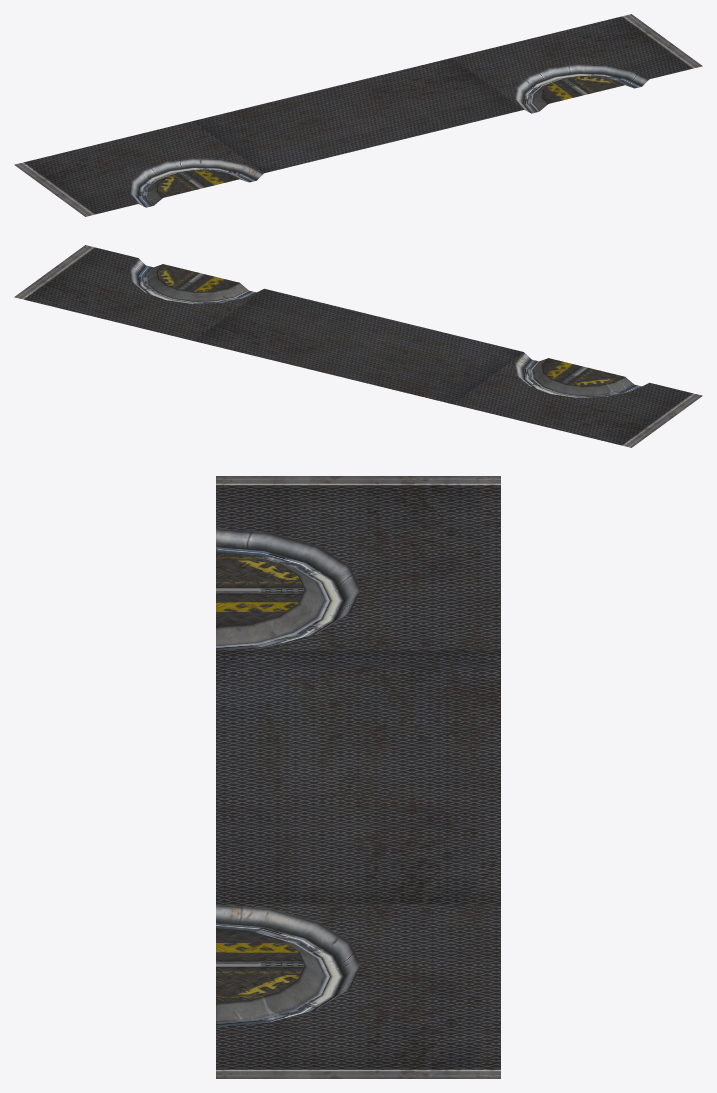
Rendered from FLO_FloorStrip04_5x1.FBX.
The picture shows the model from 3 angles, top to bottom: view 1: azimuth 30°, elevation 25°; view 2: azimuth 150°, elevation 25°; view 3: azimuth 270°, elevation 25°; orthographic projection. The views are drawn at different scales.
Visible parts, largest first — view 1: FLO_FloorStrip04_5x1; view 2: FLO_FloorStrip04_5x1; view 3: FLO_FloorStrip04_5x1.
Boxes of the visible parts, box(x1,y1,x2,y2) form: FLO_FloorStrip04_5x1: box(14, 14, 702, 216); FLO_FloorStrip04_5x1: box(14, 245, 702, 447); FLO_FloorStrip04_5x1: box(216, 476, 500, 1078).
Size of the model in its own units: 500 by 4.33 by 100.
1 material, 1 textured.
